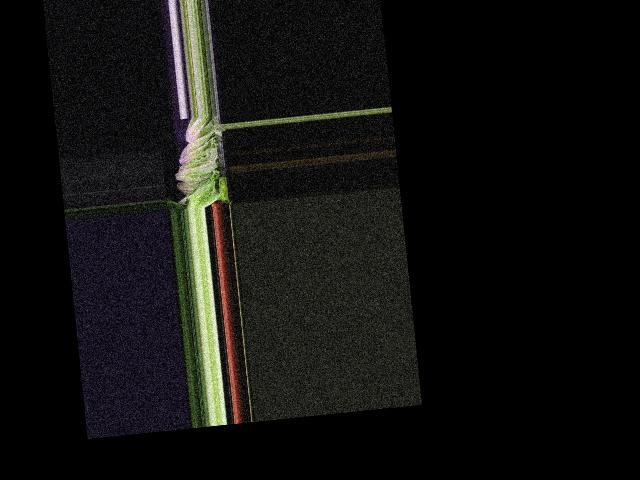lettuce: (182, 115, 213, 145)
